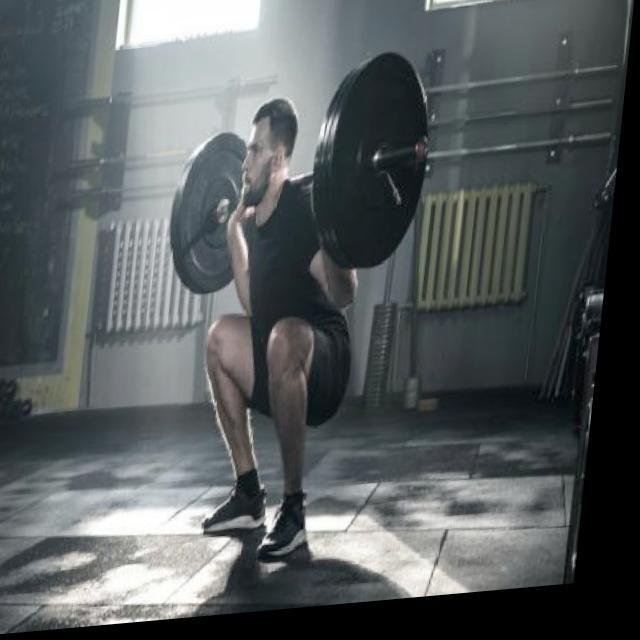barbell: (319, 52, 448, 283)
